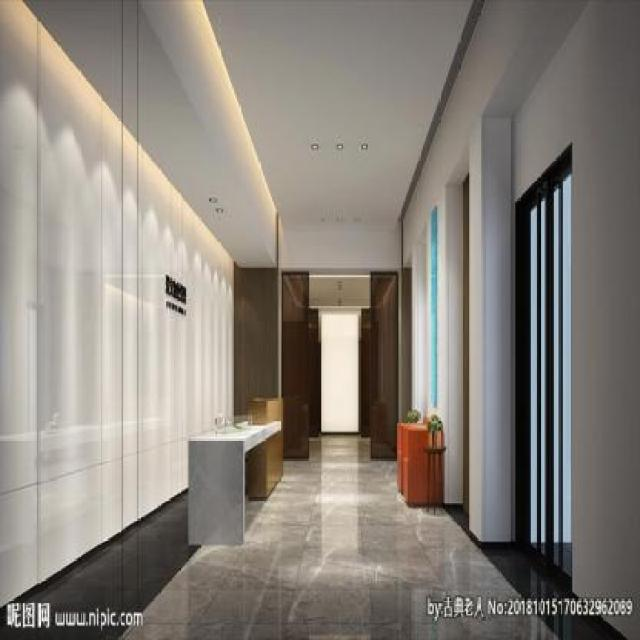frontdesk: (182, 388, 288, 548)
